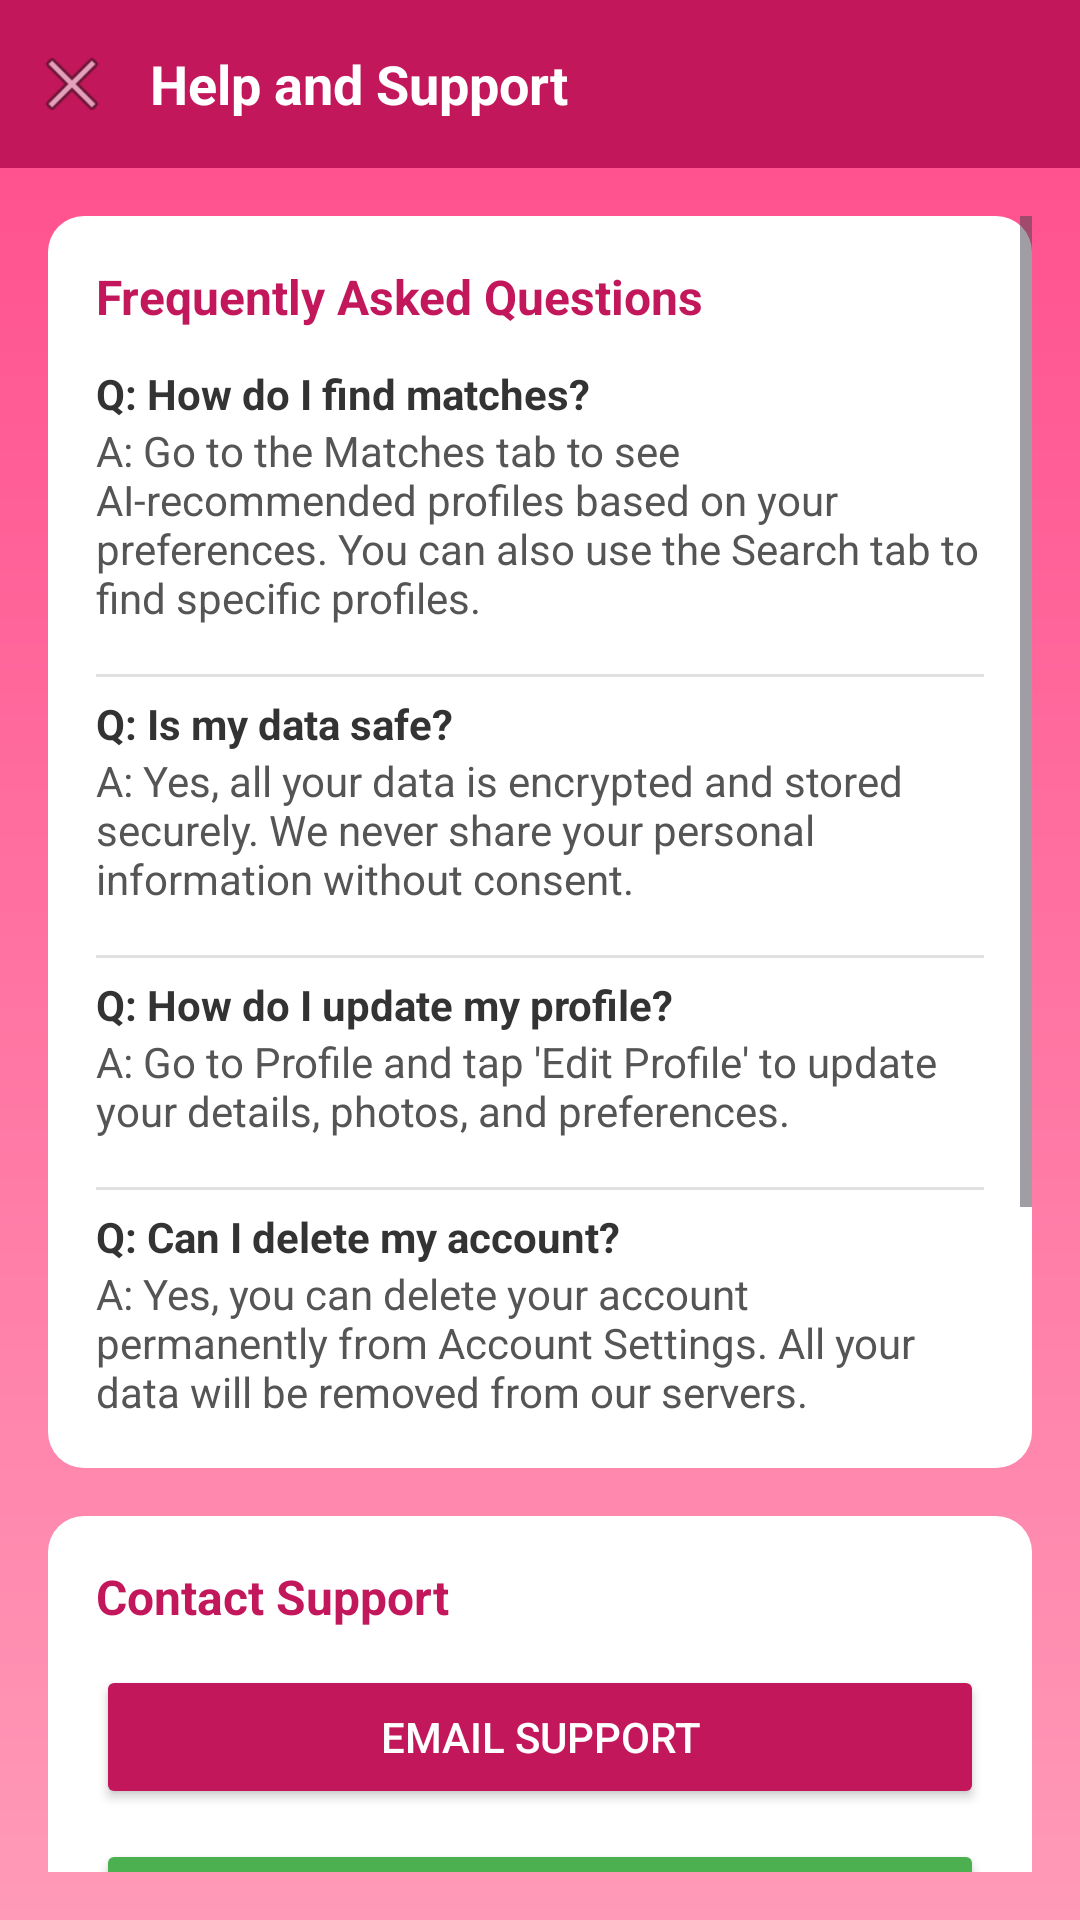

Named icons in this screenshot (1080 x 1920) and their bounding boxes, (x1, y1, x2, y2):
close clear cancel: (46, 58, 98, 110)
